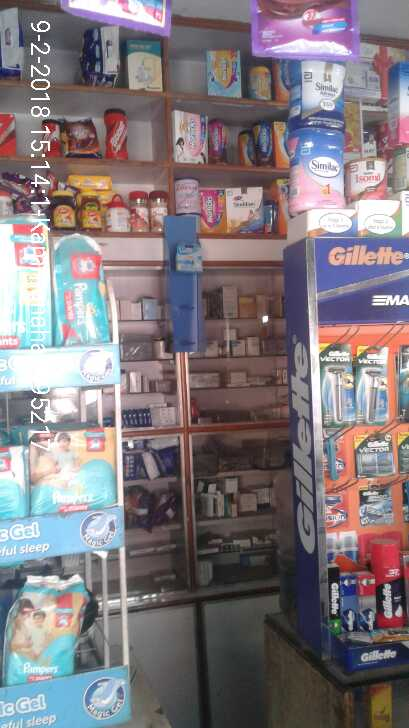beauty: (367, 531, 409, 635), (320, 338, 355, 426), (361, 344, 389, 425), (351, 431, 401, 476)
pharmacy: (6, 579, 95, 687), (33, 437, 115, 512), (55, 252, 111, 346), (1, 225, 43, 348)
